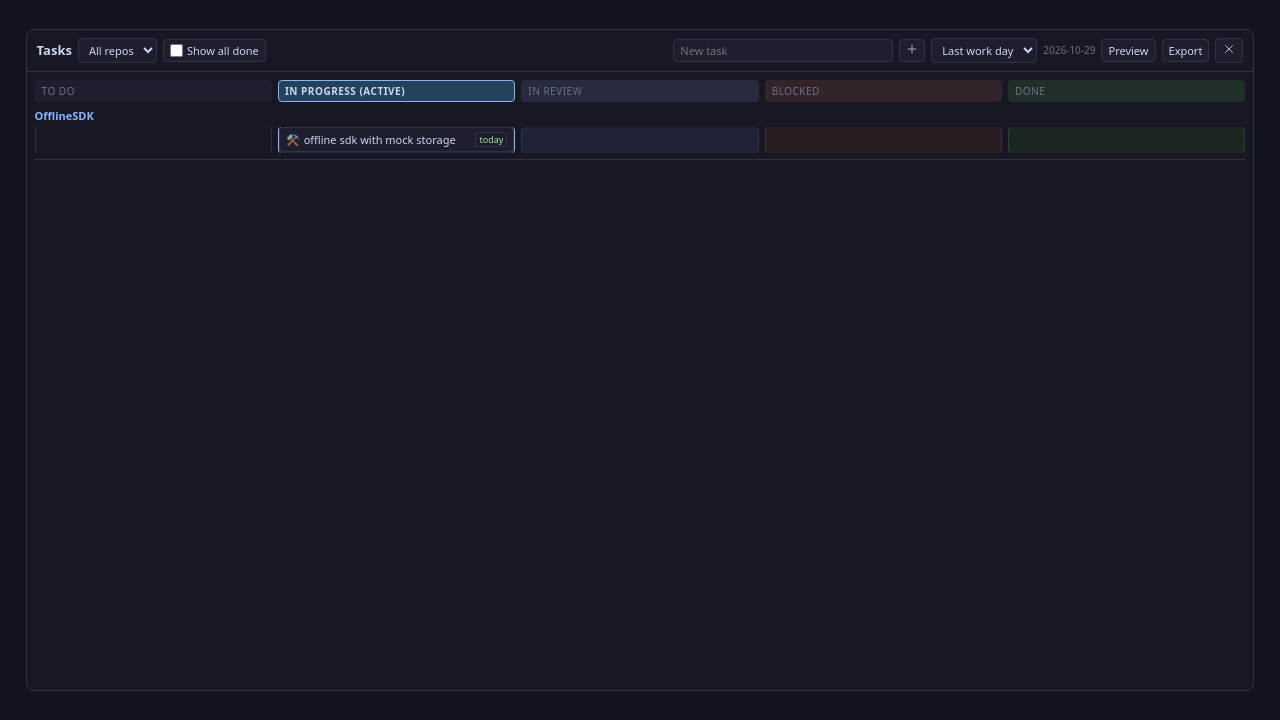
devlog export › reports where it wrote and whether it committed
This screenshot has width=1280, height=720.
Expected: the text "offline sdk with mock storage" is shown, [304,132,472,147]
Click the button with test id "devlog-export". click: (1185, 50)
box: [1162,39,1209,62]
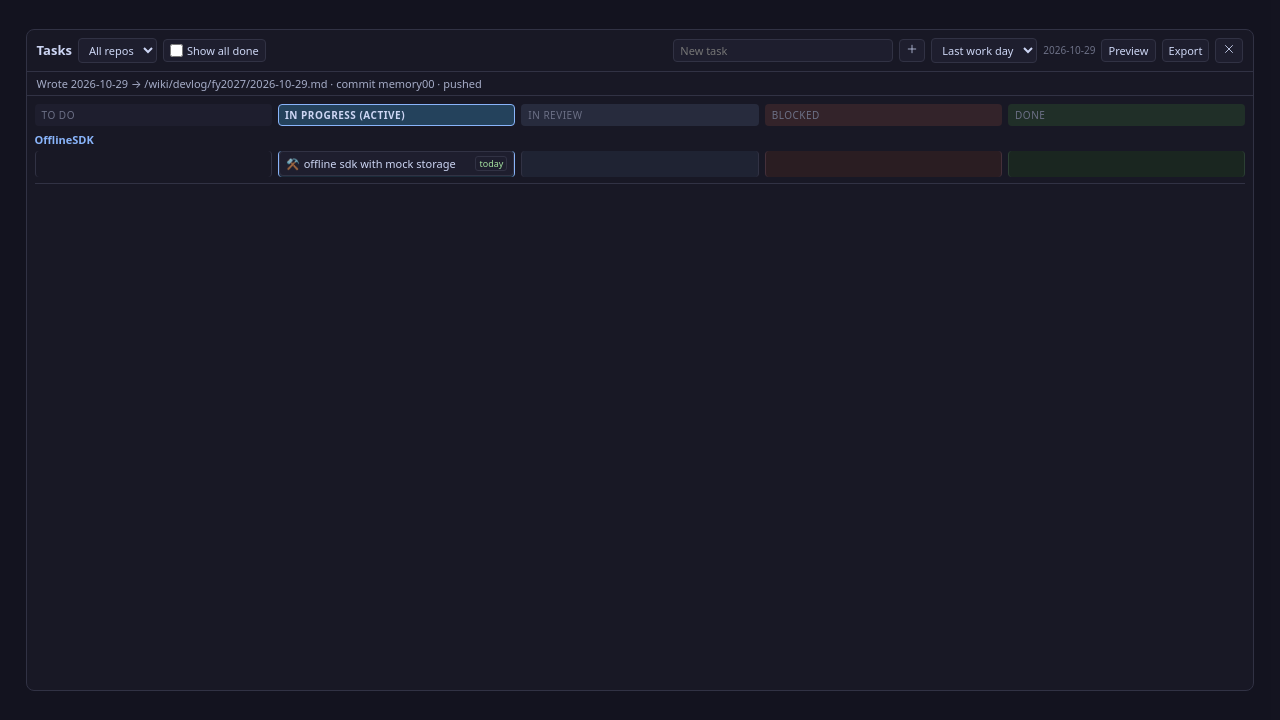
Expected: the text with test id "devlog-status" shows "wiki/devlog/fy2027", [37,76,482,91]
